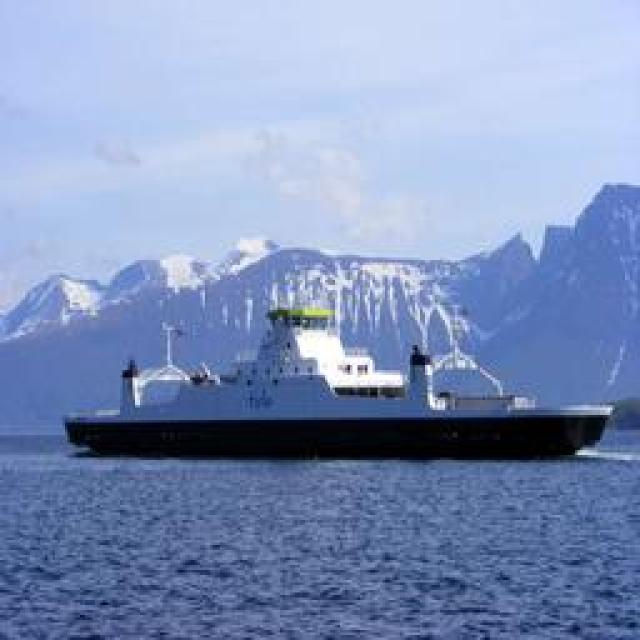CIV_Ship: (65, 222, 613, 460)
